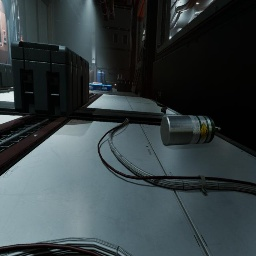0: (160, 115, 221, 146)
EmergencyPhone ,: (20, 24, 23, 37)
FireAlarm ,: (21, 36, 23, 41)
NitrogenTank ,: (91, 82, 103, 88), (114, 84, 117, 89)
